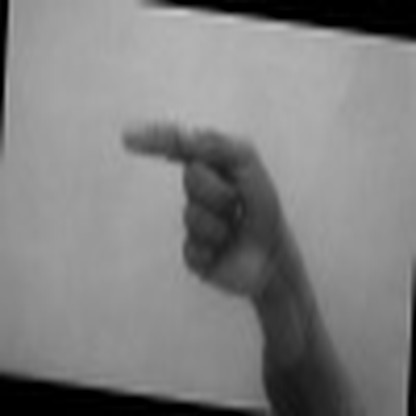g: (111, 114, 299, 298)
